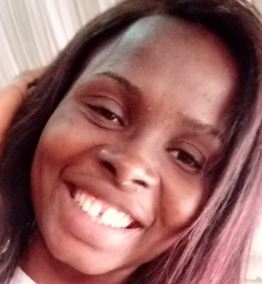without_facemask: (50, 140, 167, 274)
